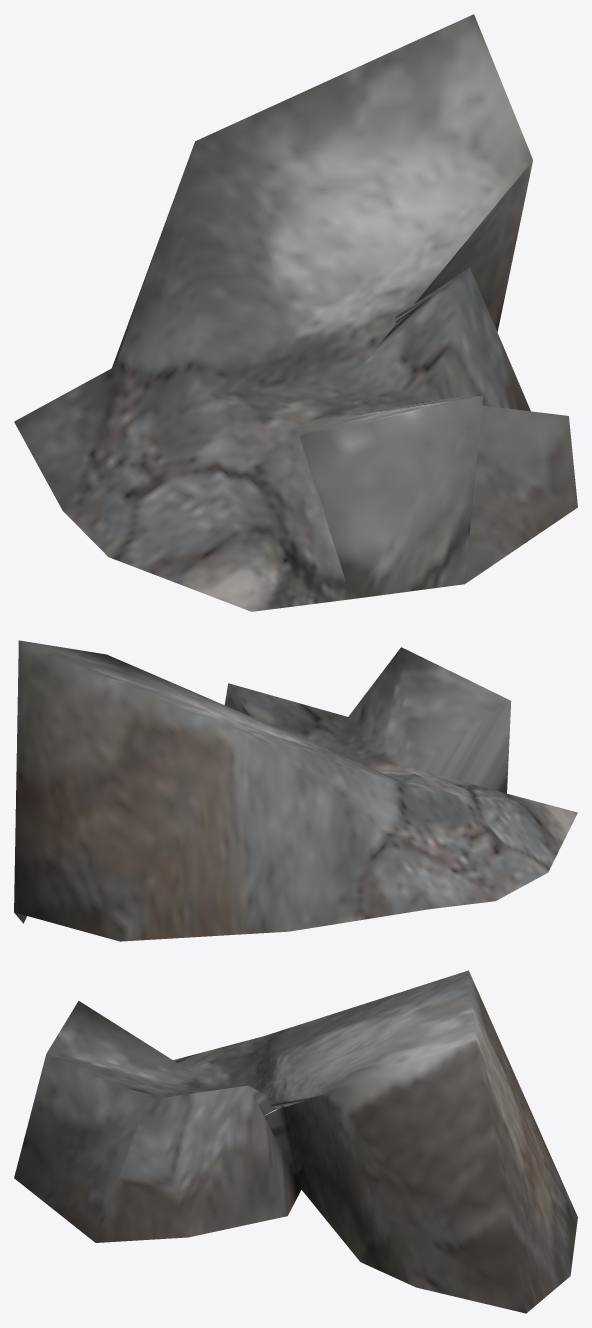
Rendered from forest_rock_09.glb.
3 views of the same model, one above another, from view 1: azimuth 30°, elevation 25°; view 2: azimuth 150°, elevation 25°; view 3: azimuth 270°, elevation 25° (orthographic). The views are drawn at different scales.
Parts seen in each view (by area): view 1: Rocks.008_Rocks_0; view 2: Rocks.008_Rocks_0; view 3: Rocks.008_Rocks_0.
Part boxes in pixels (x1=…): Rocks.008_Rocks_0: x1=14, y1=14, x2=577, y2=611; Rocks.008_Rocks_0: x1=14, y1=640, x2=577, y2=941; Rocks.008_Rocks_0: x1=14, y1=970, x2=577, y2=1313.
Size of the model in its own units: 0.813 by 0.5 by 0.889.
1 material, 1 textured.
